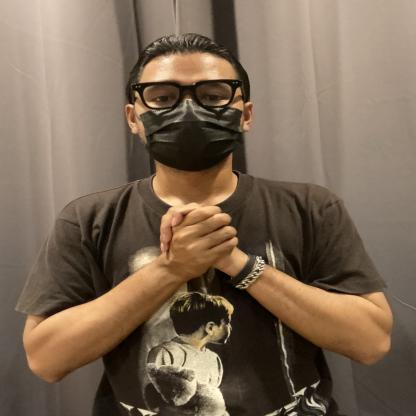Grieve: (78, 181, 340, 311)
